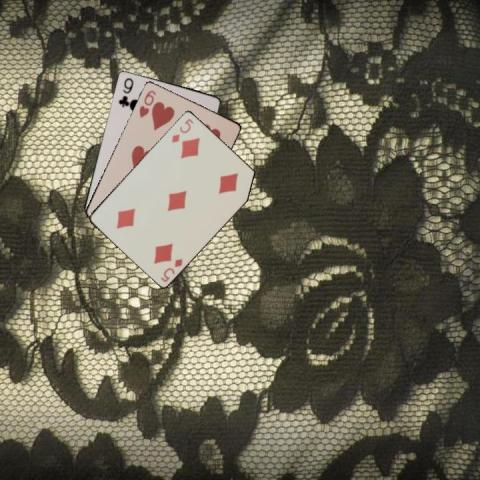5d: (157, 255, 184, 284), (169, 115, 195, 144)
6h: (136, 88, 157, 120)
9c: (115, 75, 134, 108)
